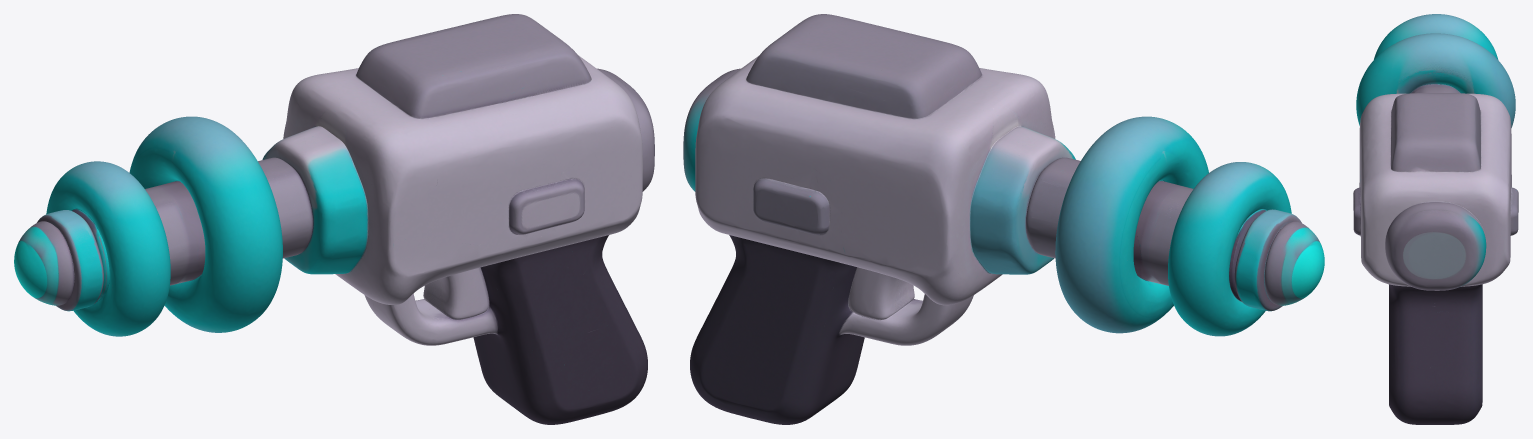
The model's file is volta_waffe_original.glb.
3 renders of one model, left to right at view 1: azimuth 30°, elevation 25°; view 2: azimuth 150°, elevation 25°; view 3: azimuth 270°, elevation 25°, orthographic. The views are drawn at different scales.
Size of the model in its own units: 1.9 by 1.14 by 0.6393.
Materials: 1 (1 with a texture image).
